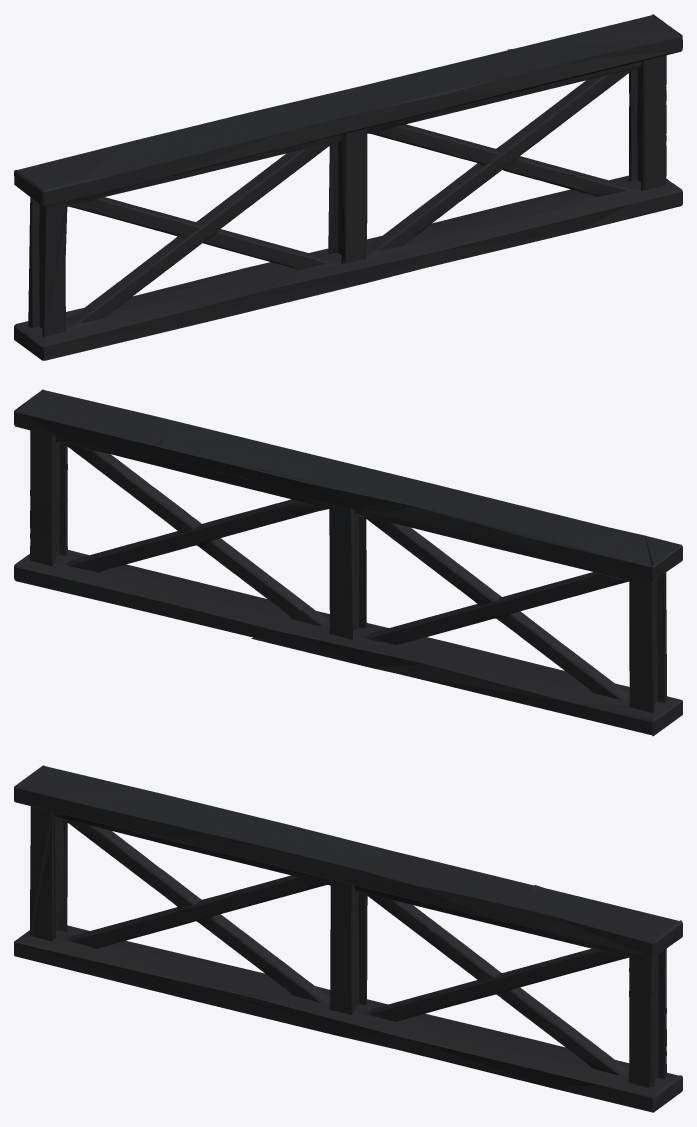
File: beam.glb
3 views of the same model, one above another, from view 1: azimuth 30°, elevation 25°; view 2: azimuth 150°, elevation 25°; view 3: azimuth 330°, elevation 25° (orthographic).
Parts seen in each view (by area): view 1: output_unwrapped; view 2: output_unwrapped; view 3: output_unwrapped.
Boxes of the visible parts, x1,y1,x2,y2 form: output_unwrapped: (14, 14, 682, 360); output_unwrapped: (14, 389, 682, 736); output_unwrapped: (14, 765, 682, 1112).
Size of the model in its own units: 1.9 by 0.4886 by 0.1554.
1 material, 1 textured.
